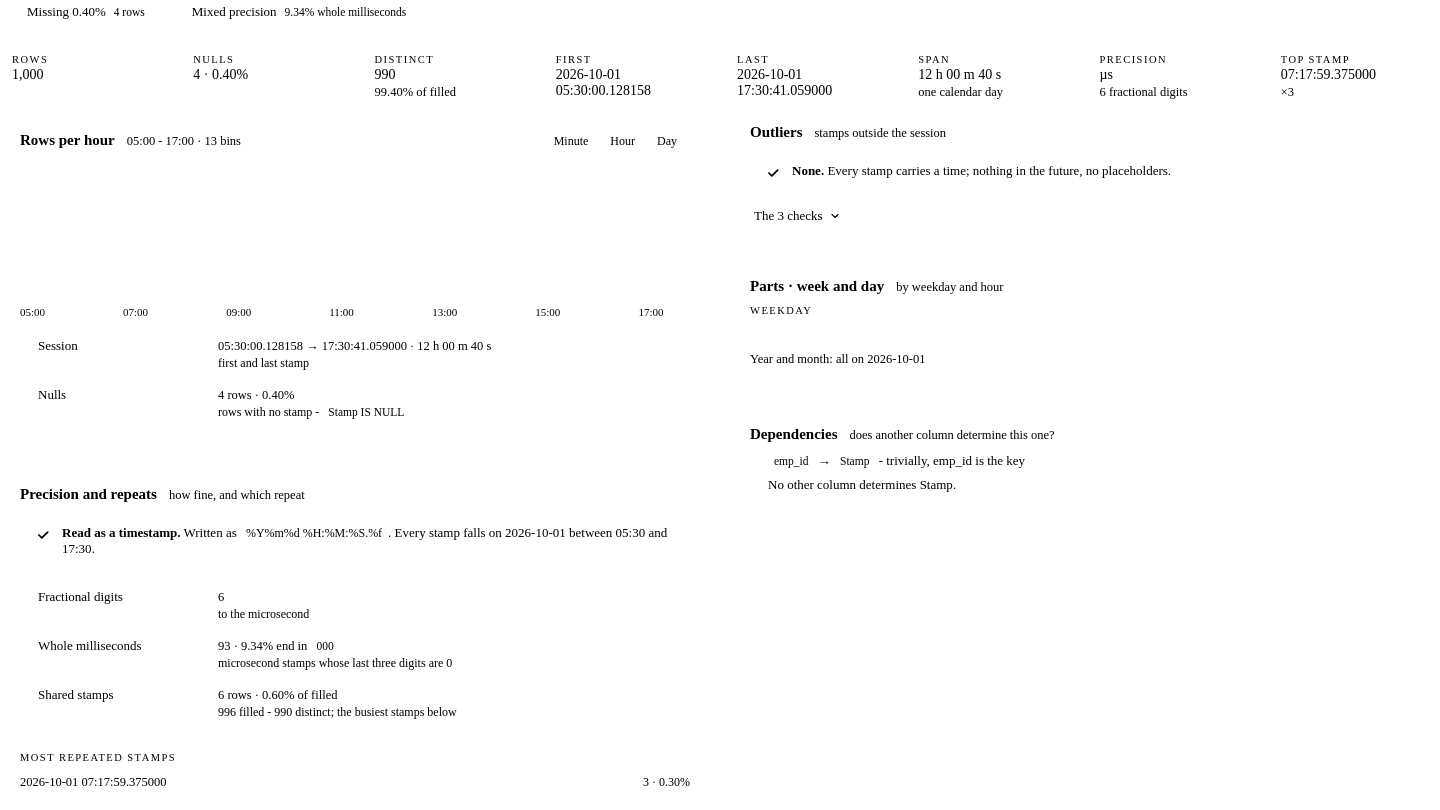
Test case: text read as a timestamp: precision, one calendar day, the session, repeats, the finer bins kept to the span
Expected: the text "µs" is shown, [1100,67,1113,82]
Expected: the text "6 fractional digits" is shown, [1100,85,1188,99]
Step 1. Click the button "The 3 checks" → [797, 216], box [744,200,851,232]
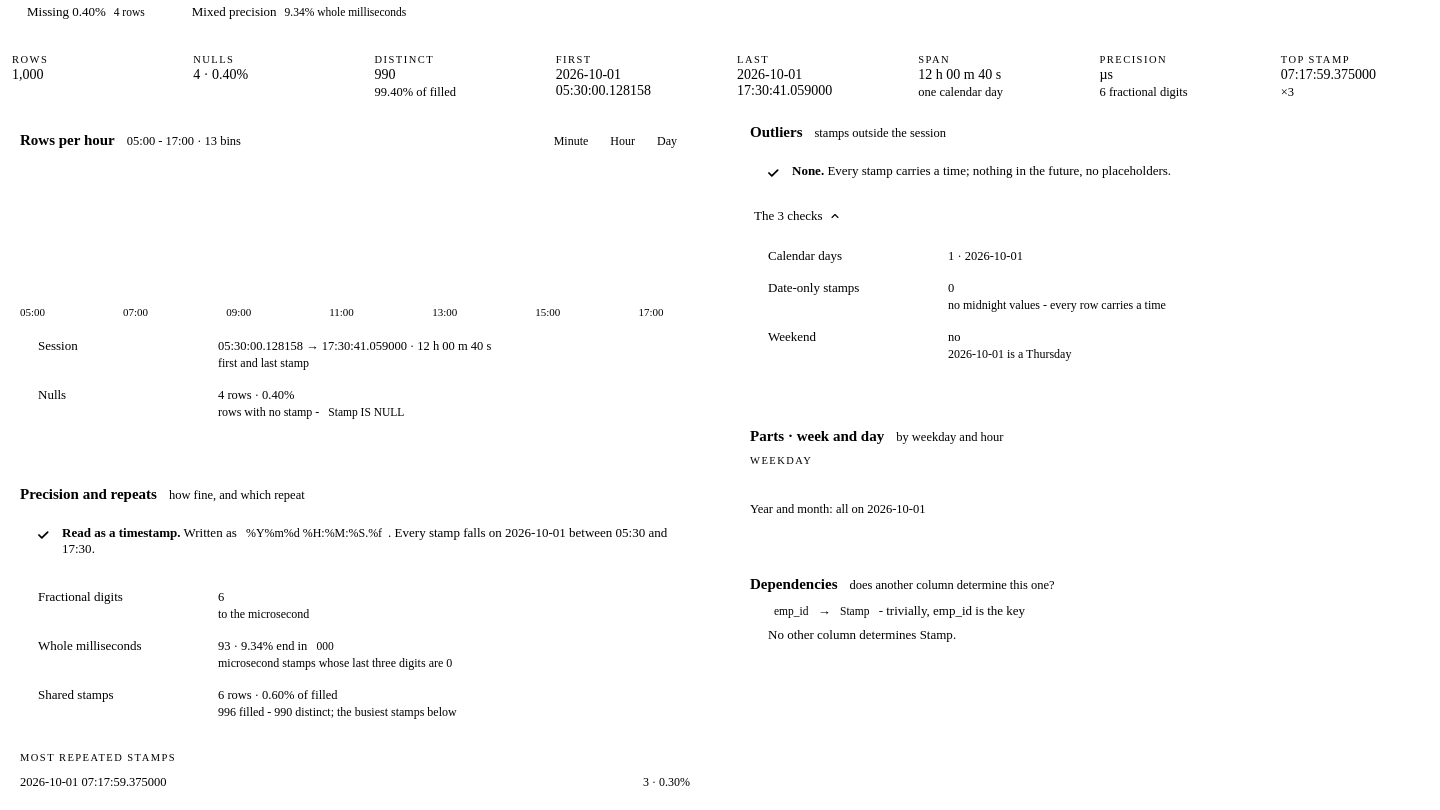
Expected: the text "996 filled - 990 distinct; the busiest stamps below" is shown, [218,705,457,719]
Expected: the text "2026-10-01 is a Thursday" is shown, [948,347,1071,361]
Expected: the text "no midnight values - every row carries a time" is shown, [948,298,1166,312]
